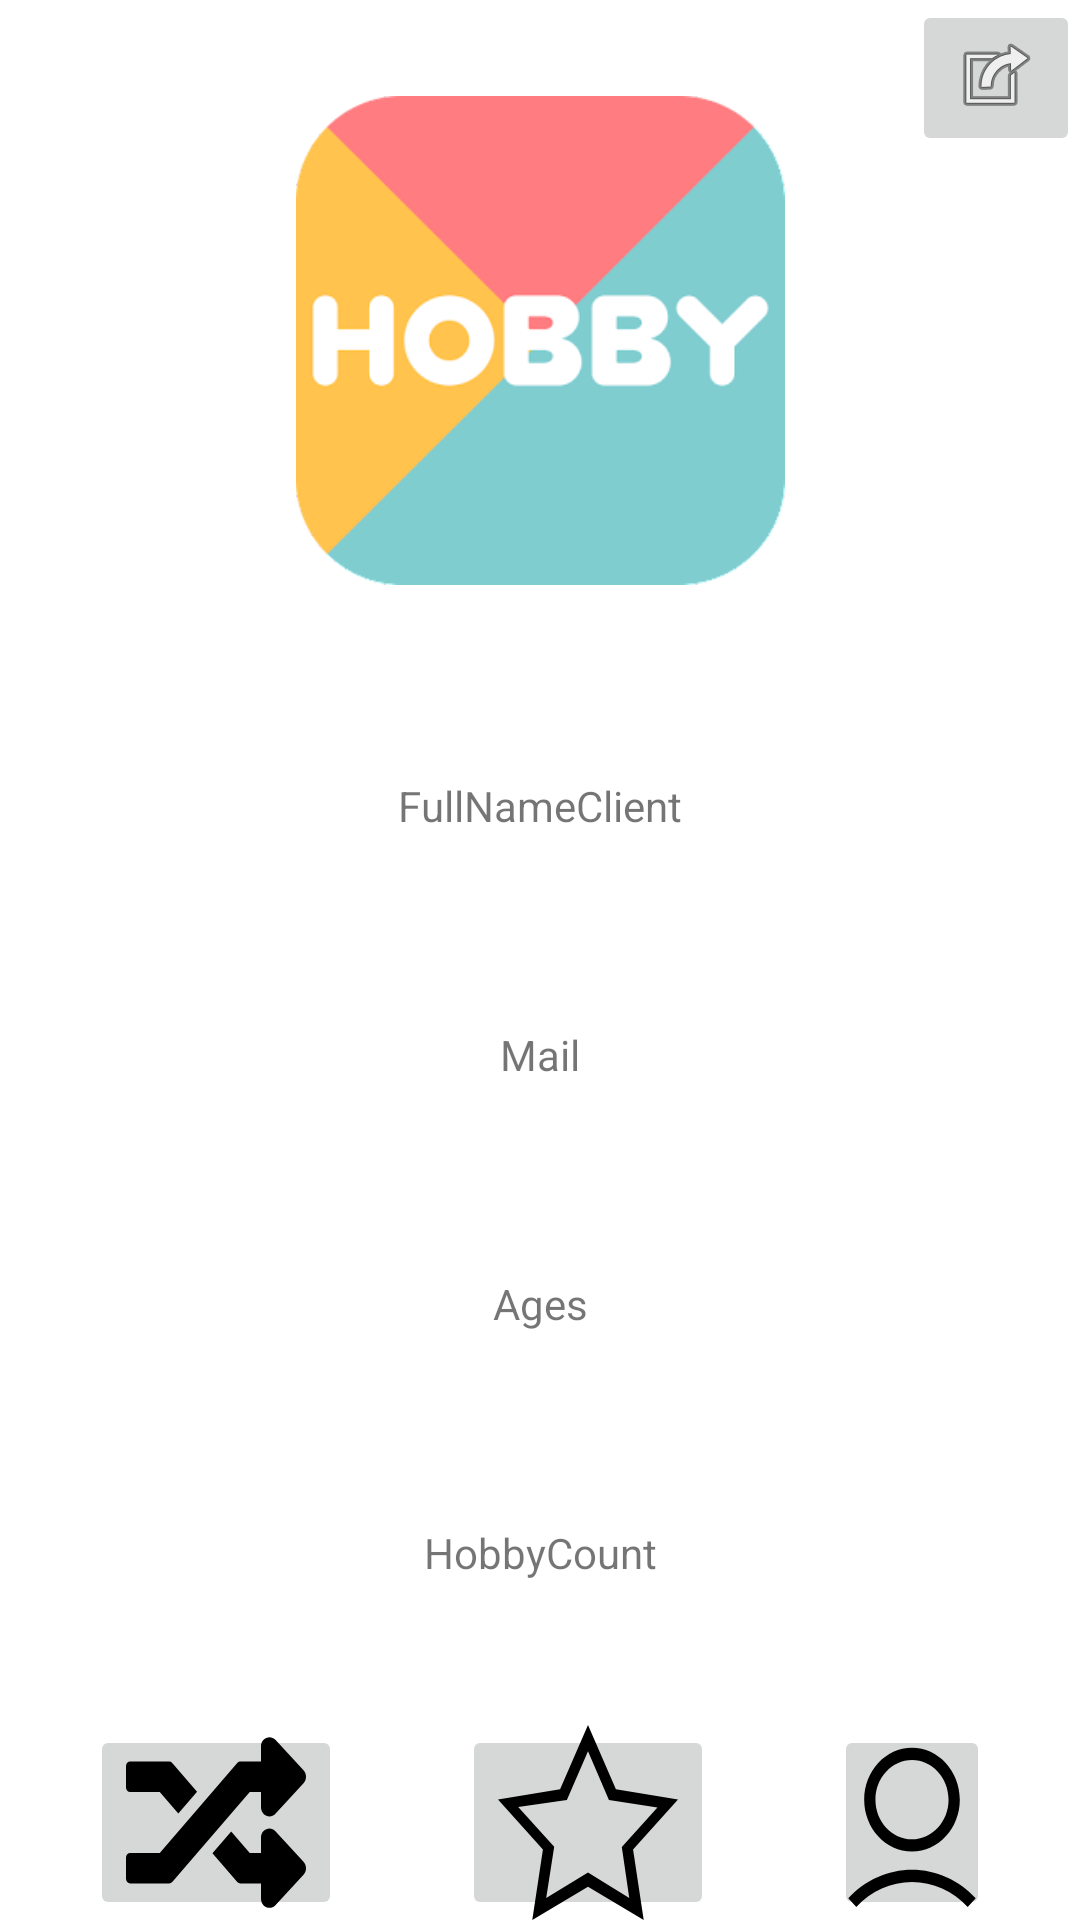

Screen size 1080x1920. Icon name, then its center in pixels as point (x, y):
favourites star interface symbol: point (588, 1822)
random: point (216, 1822)
set as: point (996, 78)
